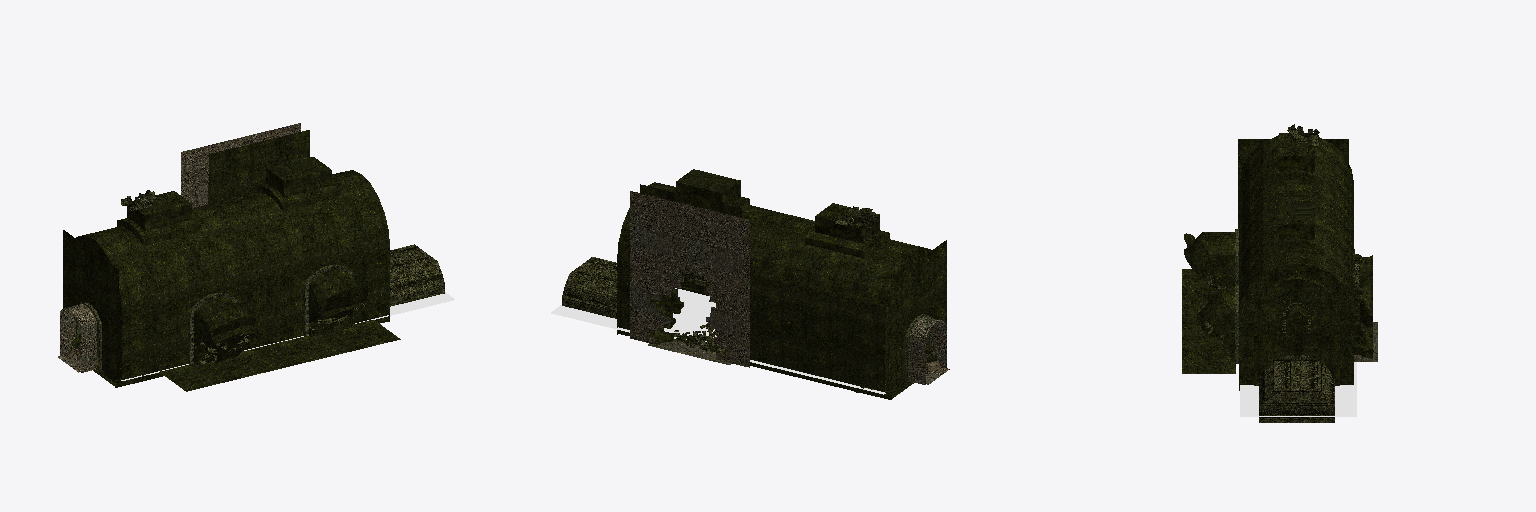
3 renders of one model, left to right at view 1: azimuth 30°, elevation 25°; view 2: azimuth 150°, elevation 25°; view 3: azimuth 270°, elevation 25°, orthographic.
Visible parts, largest first — view 1: mesh11, mesh6, mesh5, mesh13, mesh12, mesh7, mesh4; view 2: mesh11, mesh13, mesh6, mesh5, mesh4, mesh12, mesh0; view 3: mesh11, mesh6, mesh5, mesh4, mesh7.
Boxes of the visible parts, x1=… form: mesh11: x1=63, y1=130, x2=389, y2=383; mesh6: x1=76, y1=157, x2=400, y2=391; mesh5: x1=93, y1=190, x2=444, y2=381; mesh13: x1=181, y1=123, x2=300, y2=208; mesh12: x1=58, y1=304, x2=96, y2=372; mesh7: x1=76, y1=265, x2=354, y2=369; mesh4: x1=121, y1=292, x2=454, y2=380; mesh11: x1=617, y1=182, x2=946, y2=393; mesh13: x1=630, y1=191, x2=749, y2=367; mesh6: x1=617, y1=169, x2=931, y2=399; mesh5: x1=562, y1=206, x2=935, y2=392; mesh4: x1=551, y1=288, x2=885, y2=394; mesh12: x1=909, y1=317, x2=949, y2=384; mesh0: x1=648, y1=340, x2=731, y2=364; mesh11: x1=1184, y1=135, x2=1359, y2=385; mesh6: x1=1182, y1=133, x2=1372, y2=390; mesh5: x1=1199, y1=124, x2=1360, y2=422; mesh4: x1=1240, y1=362, x2=1356, y2=416; mesh7: x1=1235, y1=229, x2=1310, y2=363.
Bounding box in the file's own units: 16.22 × 7.02 × 7.67.
Materials: 15 (11 with a texture image).